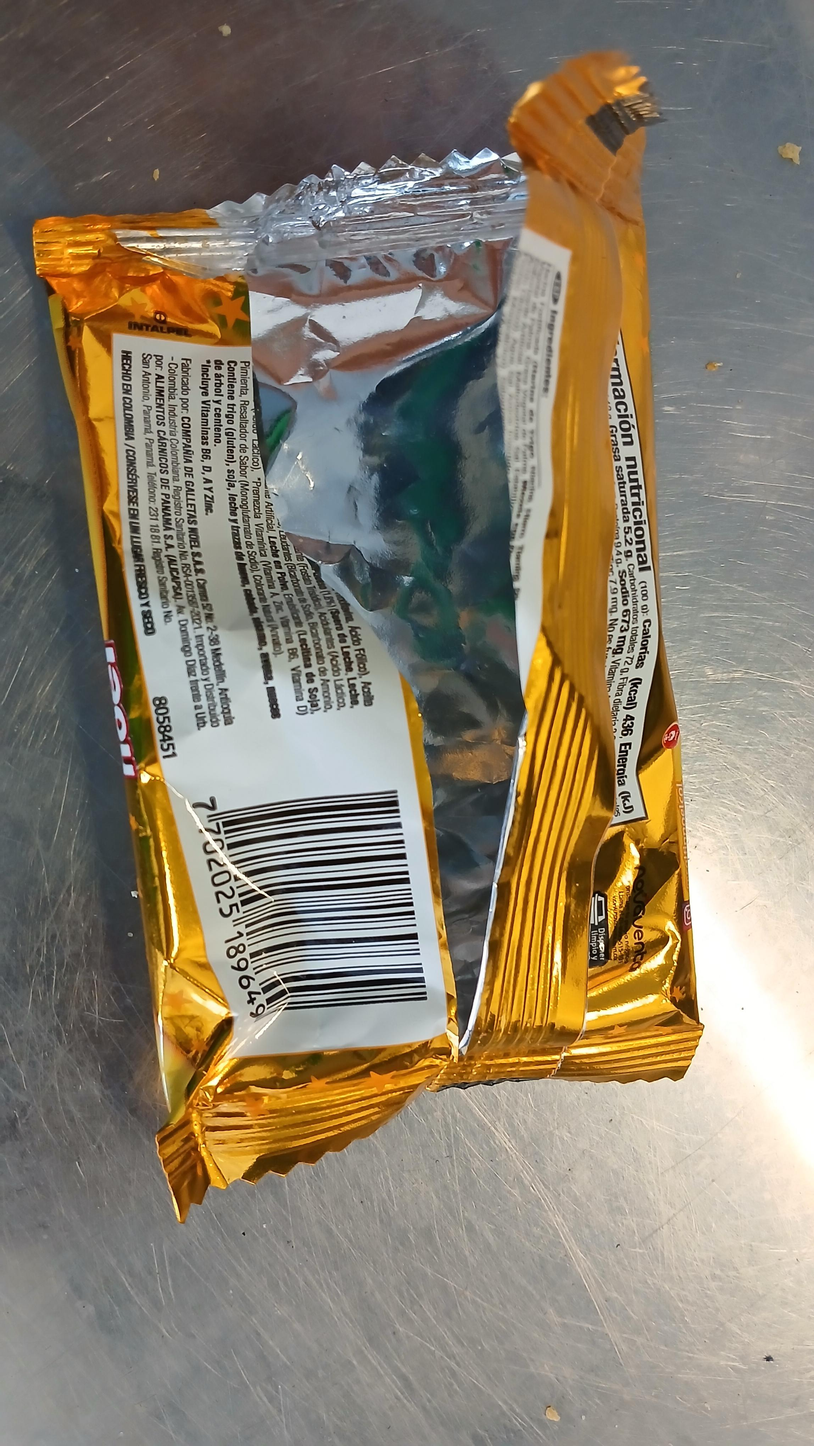Ordinario: (32, 46, 702, 1222)
